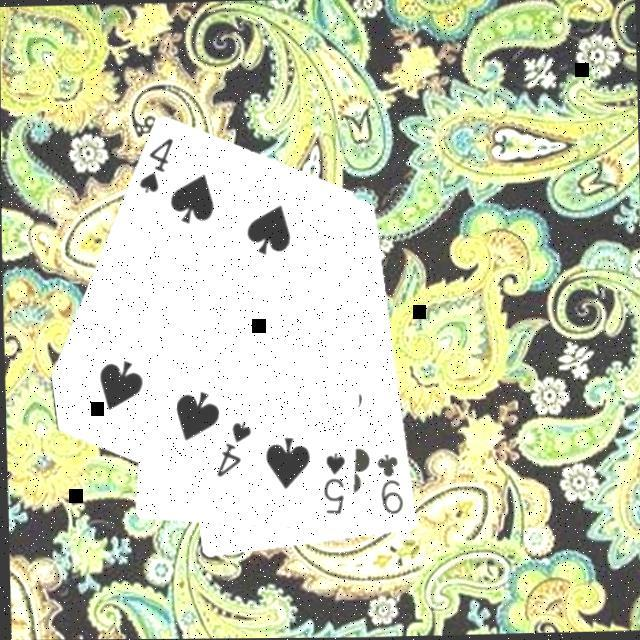4S: (212, 419, 256, 482), (134, 136, 178, 198)
5S: (320, 450, 350, 520)
9C: (373, 450, 408, 520)
